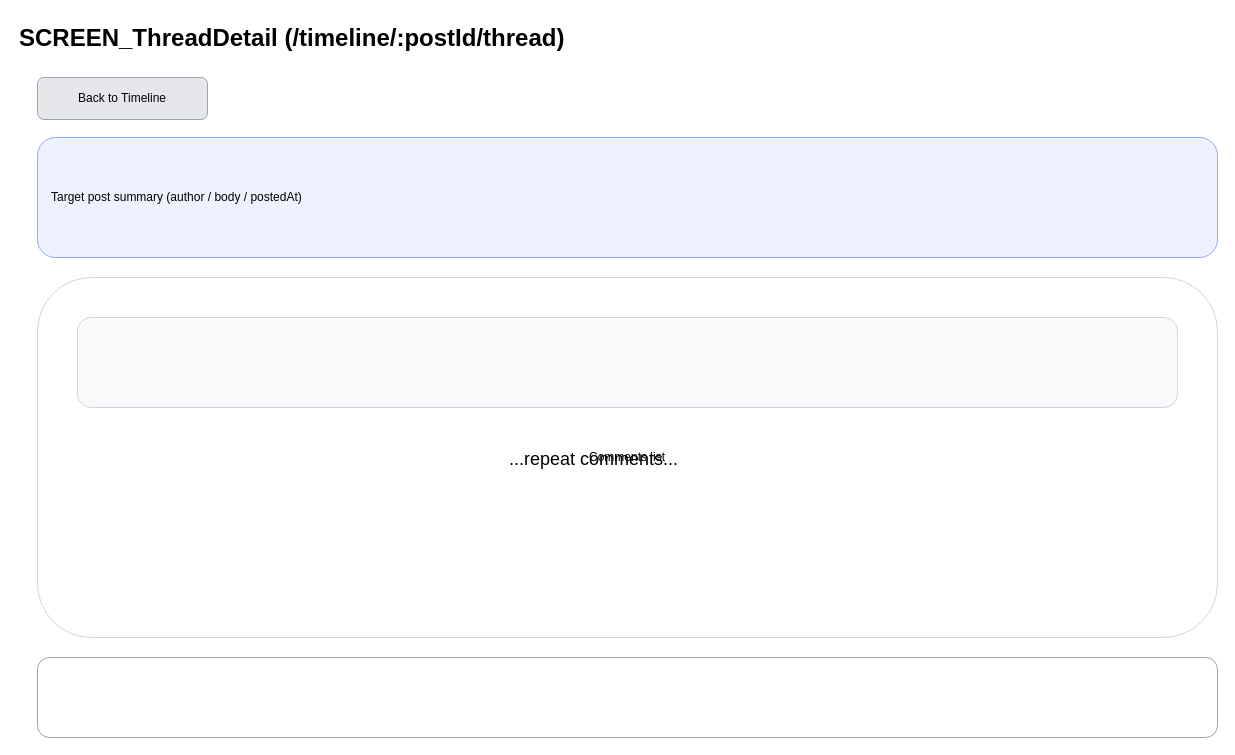
This 1235x755 diagram has some shape labels left out. The shapes that lost their labels are listed below. From the top down, each one's centre as x and y in pixels, then its label:
(627,362): comment item (author / text / postedAt)
(627,697): Comment input + Post button
